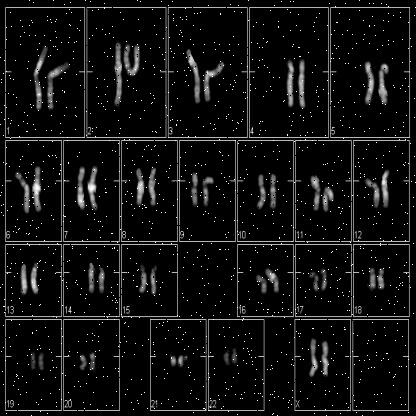1: (46, 60, 72, 110), (32, 45, 49, 110)
10: (256, 172, 268, 212), (268, 171, 279, 212)
11: (309, 172, 321, 214), (322, 184, 334, 214)
12: (363, 176, 380, 210), (379, 168, 391, 210)
13: (30, 262, 40, 298), (20, 260, 29, 296)
14: (88, 259, 96, 296), (97, 264, 106, 294)
15: (149, 264, 159, 297), (138, 262, 148, 294)
16: (264, 266, 280, 294), (253, 272, 269, 296)
17: (318, 266, 328, 296), (308, 270, 320, 294)
18: (366, 265, 376, 291), (376, 264, 386, 290)
19: (29, 350, 37, 372), (37, 350, 45, 372)
2: (112, 42, 122, 108), (123, 43, 140, 77)
20: (88, 350, 97, 372), (79, 352, 88, 372)
21: (176, 352, 188, 368), (168, 352, 178, 370)
22: (221, 346, 230, 367), (231, 346, 238, 369)
3: (186, 46, 202, 106), (204, 61, 226, 104)
4: (285, 58, 296, 108), (298, 58, 306, 110)
5: (378, 62, 390, 106), (364, 60, 375, 104)
6: (13, 171, 30, 215), (30, 164, 43, 214)
7: (87, 163, 99, 212), (76, 165, 86, 211)
8: (146, 166, 157, 209), (134, 166, 144, 208)
9: (201, 174, 214, 207), (190, 171, 199, 209)
X: (308, 336, 320, 382), (321, 340, 331, 380)
